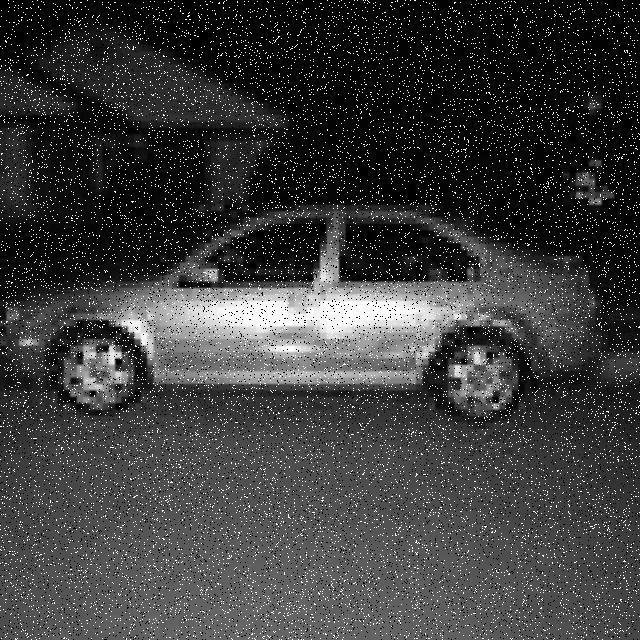doorouter-dent: (160, 289, 320, 378), (321, 283, 468, 372)
